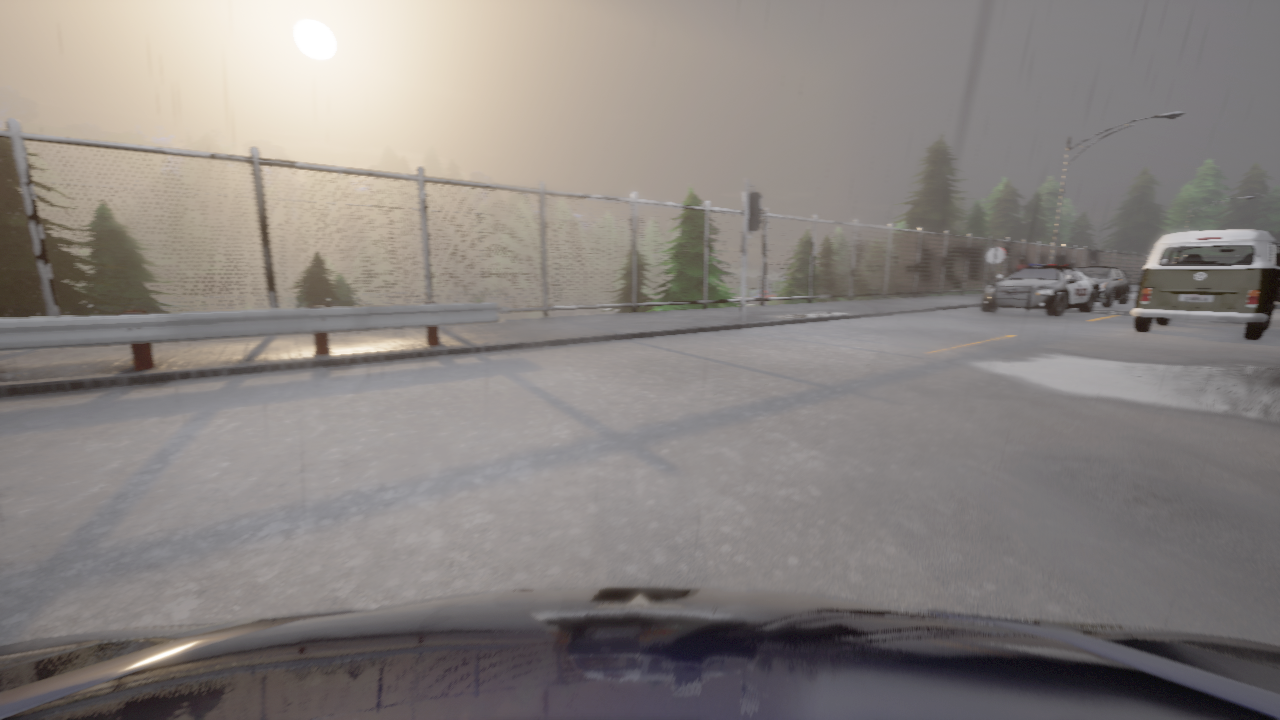cyclist: (0, 588, 1279, 719), (1131, 229, 1279, 339), (981, 264, 1099, 315), (1074, 267, 1130, 306), (1275, 287, 1279, 301)
